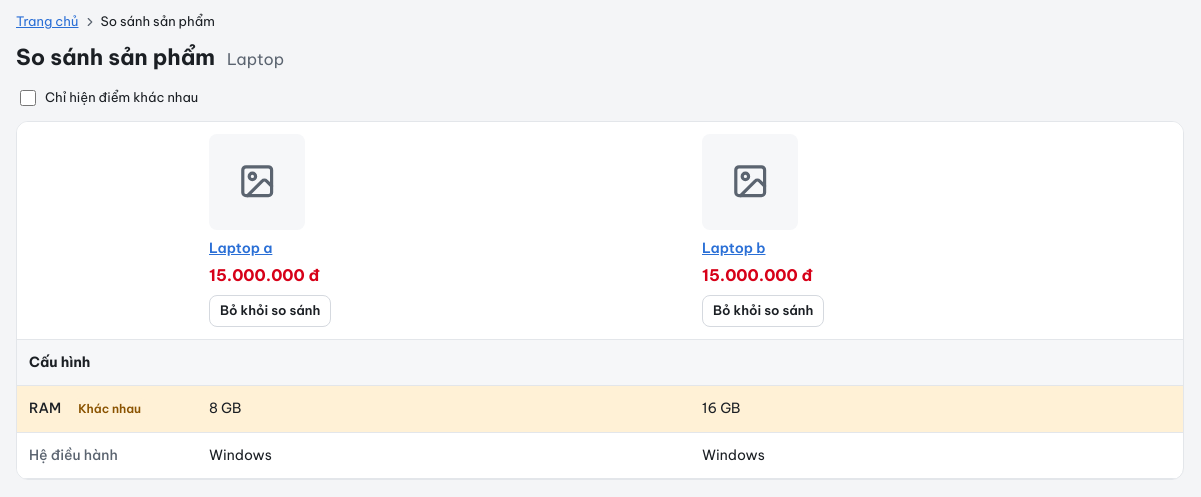
it: ComparePage: bảng so sánh › bỏ một sản phẩm thì cột biến mất và danh sách đổi
Click the button "Bỏ khỏi so sánh" below "Laptop a".
click(270, 310)  # box [209,294,331,326]
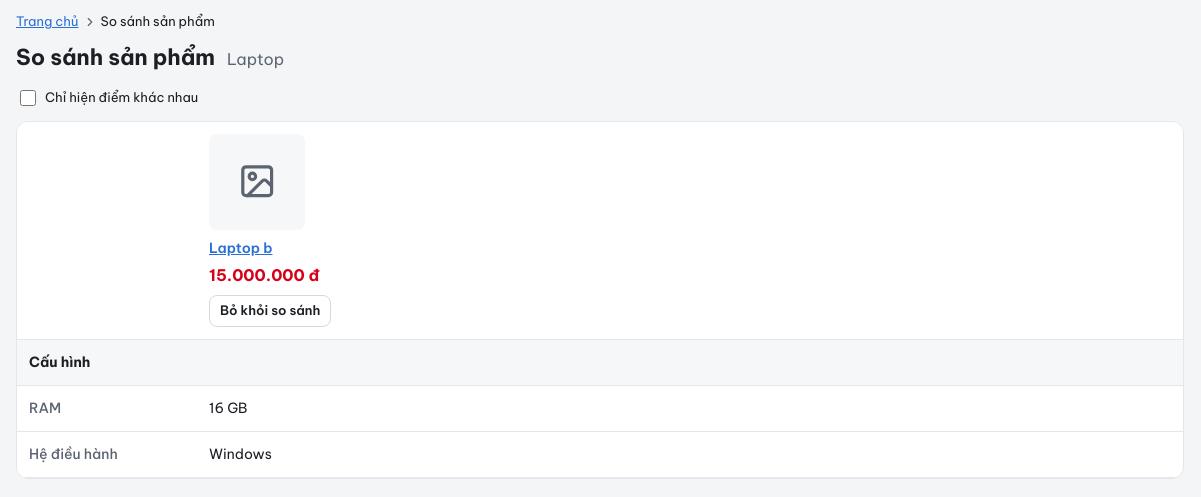
Now the text "Laptop a" is gone
